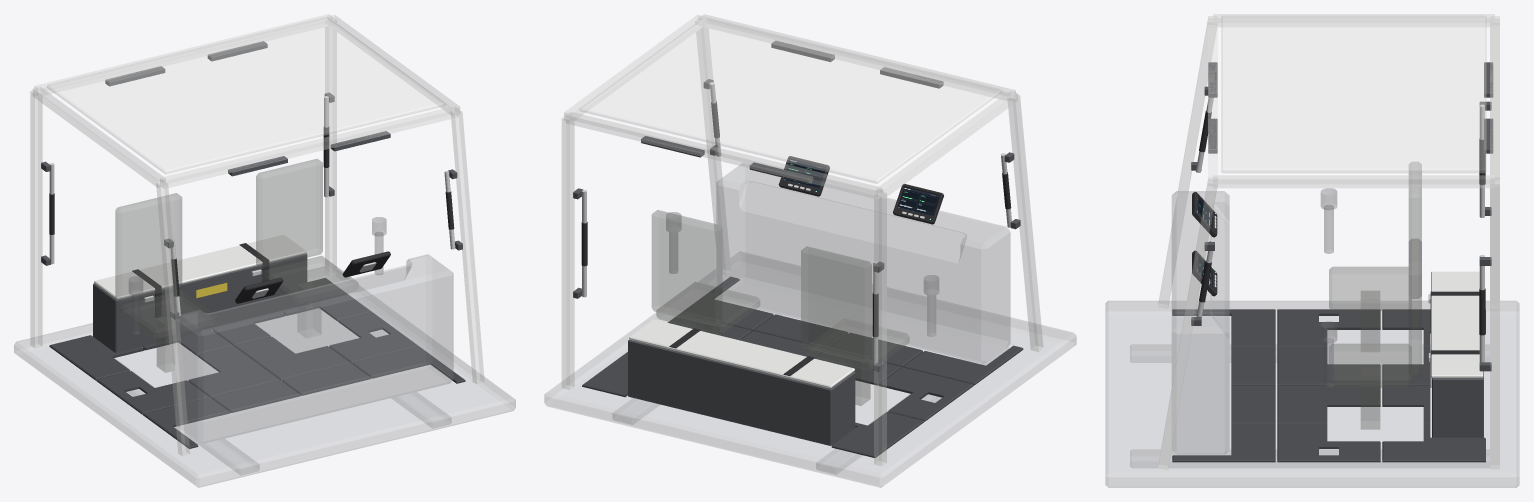
File: ax_rover_03_open_station_combined.glb
3 views of the same model, side by side, from view 1: azimuth 30°, elevation 25°; view 2: azimuth 150°, elevation 25°; view 3: azimuth 270°, elevation 25° (orthographic). The views are drawn at different scales.
Visible parts, largest first — view 1: ext_console, ext_sunshade_radiator, ext_deck_plate, ext_roll_cage, ext_seat_2, rack_tool_stowage_body, ext_seat_1, rack_tool_stowage_lid, floor_tile_07, floor_tile_06, floor_tile_05, floor_tile_08 (+12 smaller); view 2: ext_console, ext_sunshade_radiator, ext_deck_plate, ext_roll_cage, rack_tool_stowage_body, ext_seat_1, ext_seat_2, rack_tool_stowage_lid, floor_tile_05, floor_tile_09, floor_tile_01, floor_tile_04 (+13 smaller); view 3: ext_deck_plate, ext_sunshade_radiator, ext_roll_cage, ext_console, ext_seat_2, ext_seat_1, rack_tool_stowage_lid, ext_mount_rails, floor_tile_06, floor_tile_07, rack_tool_stowage_body, floor_tile_08 (+12 smaller).
Boxes of the visible parts, <box> form: ext_console: <box>176,254,453,443</box>; ext_sunshade_radiator: <box>47,17,445,173</box>; ext_deck_plate: <box>14,266,515,487</box>; ext_roll_cage: <box>30,14,484,455</box>; ext_seat_2: <box>256,159,358,337</box>; rack_tool_stowage_body: <box>93,253,307,352</box>; ext_seat_1: <box>115,193,217,372</box>; rack_tool_stowage_lid: <box>94,234,306,299</box>; floor_tile_07: <box>235,337,349,380</box>; floor_tile_06: <box>188,346,279,397</box>; floor_tile_05: <box>96,371,209,414</box>; floor_tile_08: <box>329,312,418,363</box>; ext_console: <box>716,163,1010,363</box>; ext_sunshade_radiator: <box>579,17,1001,183</box>; ext_deck_plate: <box>544,251,1076,487</box>; ext_roll_cage: <box>562,14,1043,465</box>; rack_tool_stowage_body: <box>628,339,855,445</box>; ext_seat_1: <box>801,246,909,405</box>; ext_seat_2: <box>652,210,759,335</box>; rack_tool_stowage_lid: <box>629,319,854,388</box>; floor_tile_05: <box>878,367,973,421</box>; floor_tile_09: <box>831,412,923,457</box>; floor_tile_01: <box>903,345,1023,385</box>; floor_tile_04: <box>681,276,773,331</box>; ext_deck_plate: <box>1105,301,1519,487</box>; ext_sunshade_radiator: <box>1221,16,1486,172</box>; ext_roll_cage: <box>1158,14,1499,469</box>; ext_console: <box>1172,191,1229,454</box>; ext_seat_2: <box>1329,239,1421,429</box>; ext_seat_1: <box>1329,162,1421,351</box>; rack_tool_stowage_lid: <box>1431,271,1483,377</box>; ext_mount_rails: <box>1130,344,1489,467</box>; floor_tile_06: <box>1277,346,1380,385</box>; floor_tile_07: <box>1277,385,1380,423</box>; rack_tool_stowage_body: <box>1432,371,1483,437</box>; floor_tile_08: <box>1277,423,1380,462</box>.
Bounding box in the file's own units: 2.5 × 2.12 × 2.5.
16 materials, 1 textured.
